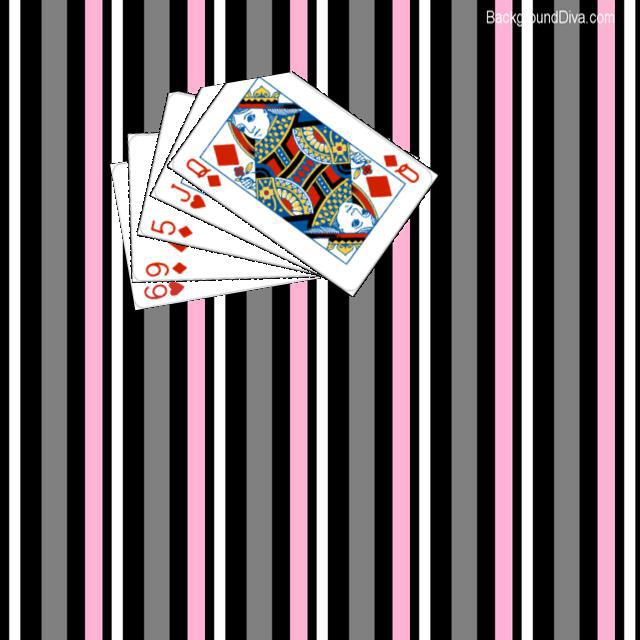5d: (145, 215, 194, 240)
6h: (138, 276, 186, 301)
9d: (140, 257, 189, 277)
Jh: (165, 178, 208, 211)
Qd: (180, 153, 223, 189), (378, 149, 421, 185)
